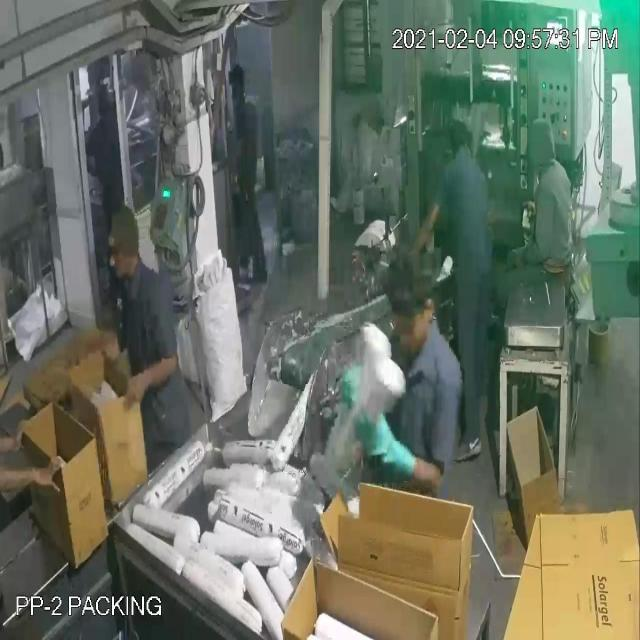No_Gloves: (16, 50, 426, 484)
